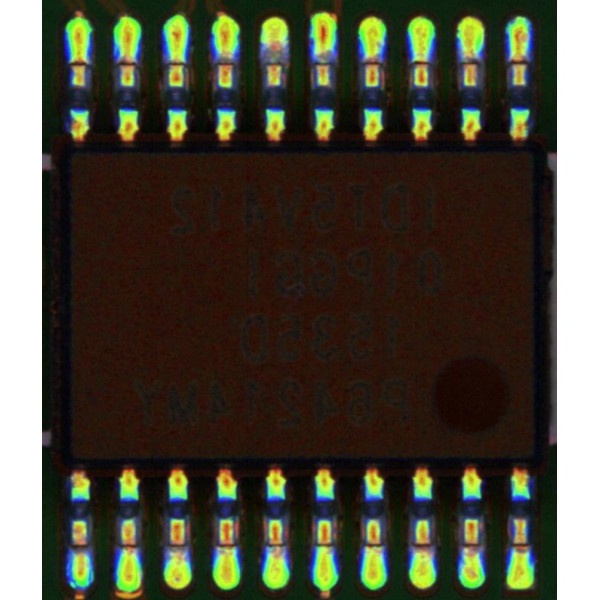Bad_podu: (511, 45, 526, 72), (366, 51, 381, 75), (219, 45, 231, 74), (74, 534, 85, 565), (465, 43, 476, 73), (415, 537, 429, 560), (171, 50, 184, 73), (415, 53, 427, 75), (465, 536, 477, 558), (71, 54, 87, 70), (121, 540, 135, 557), (120, 55, 133, 72), (515, 538, 527, 556), (269, 539, 281, 556)
